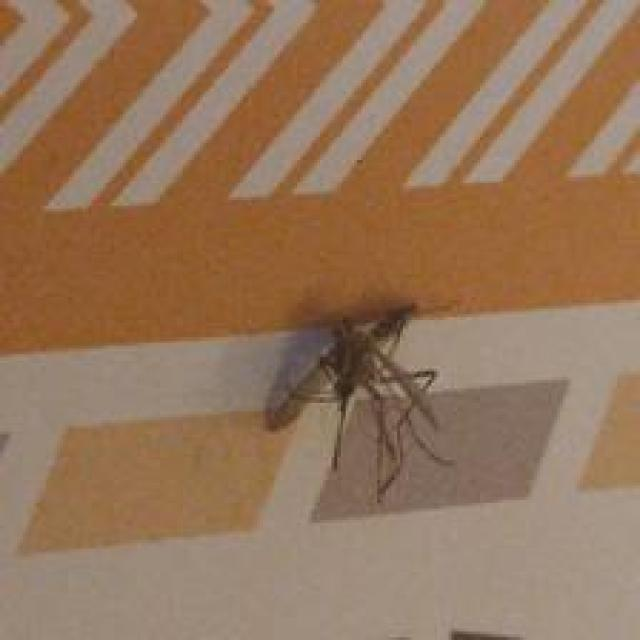Culex: (264, 302, 456, 504)
